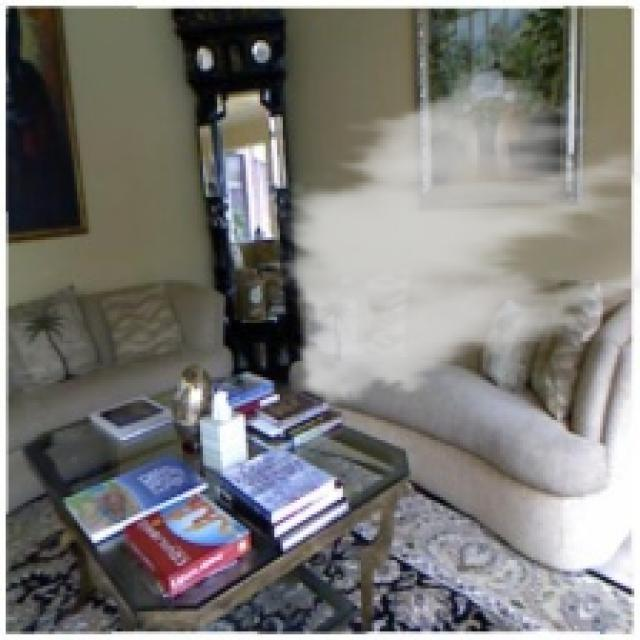Smoke: (268, 57, 638, 423)
